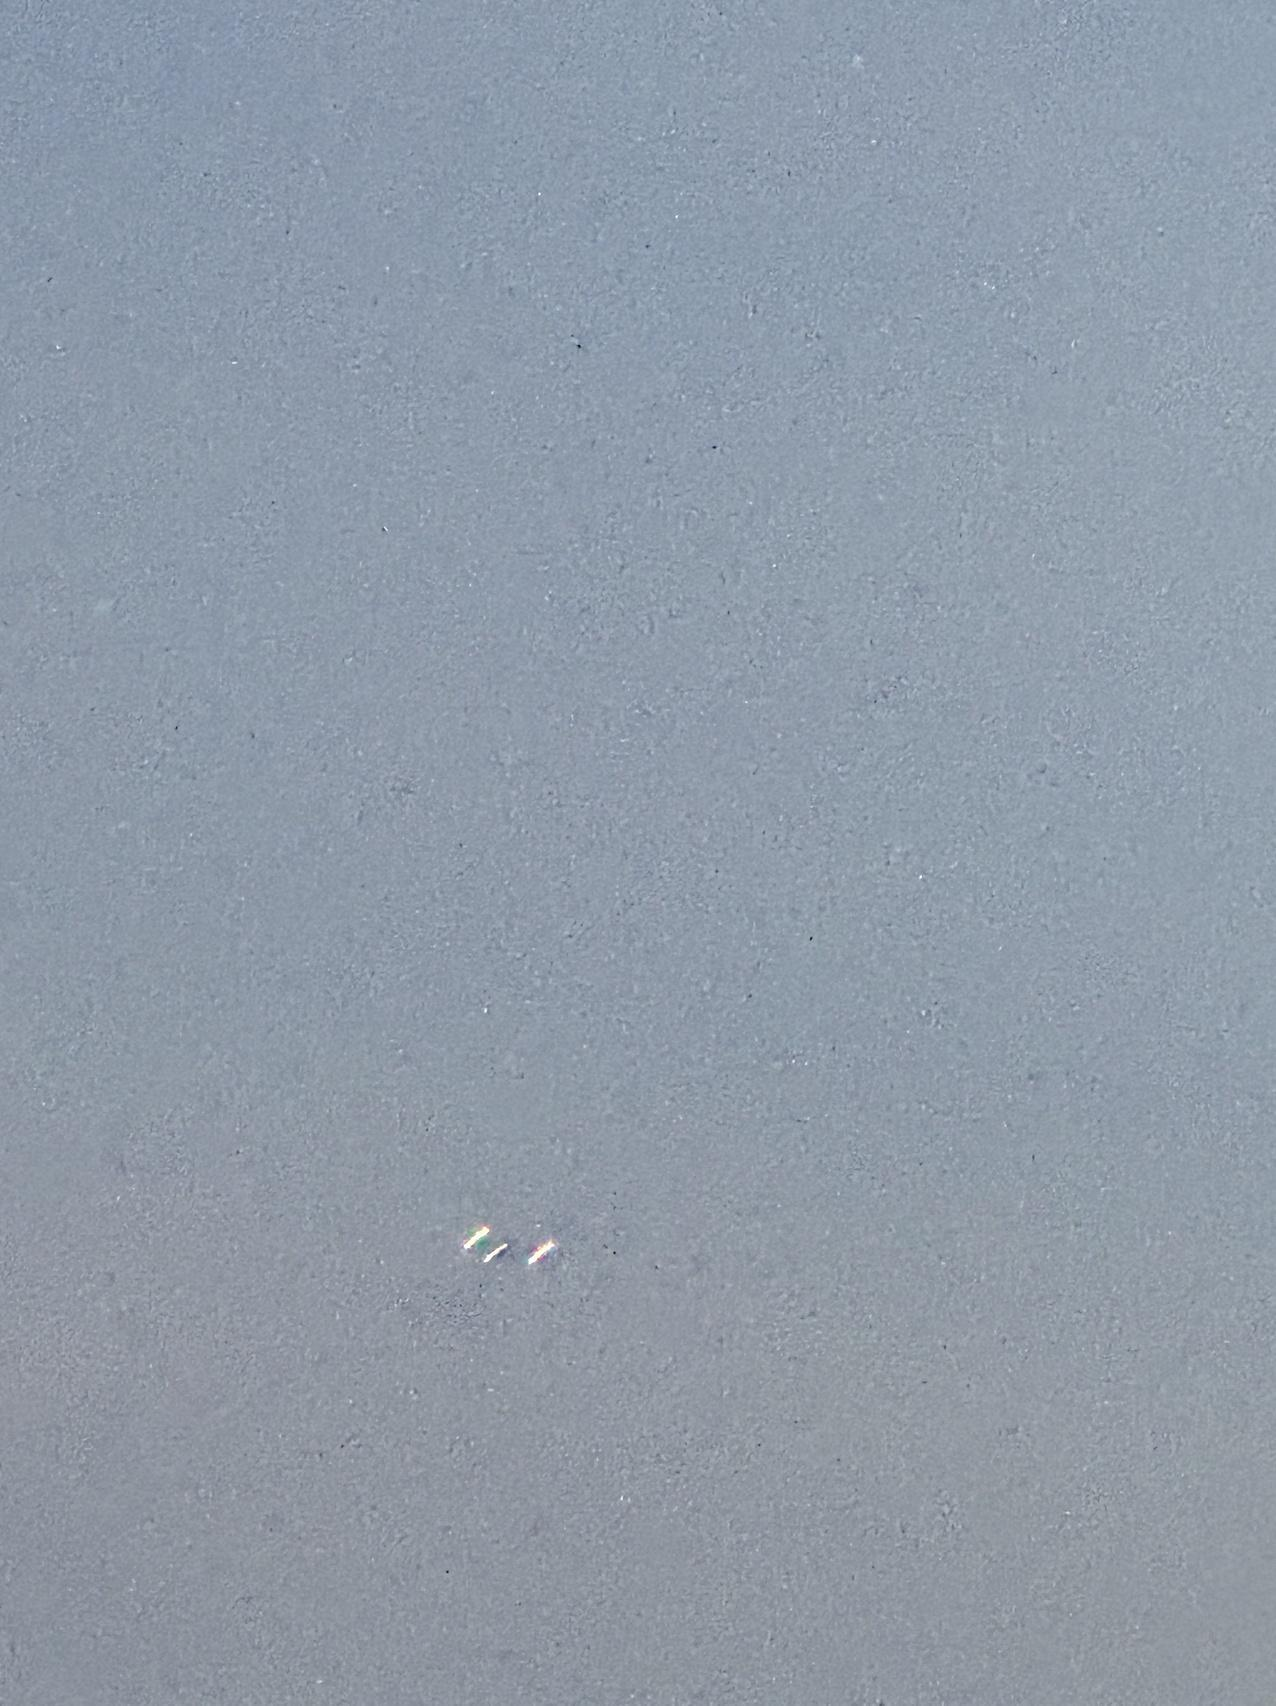Plane: (432, 1207, 596, 1283)
